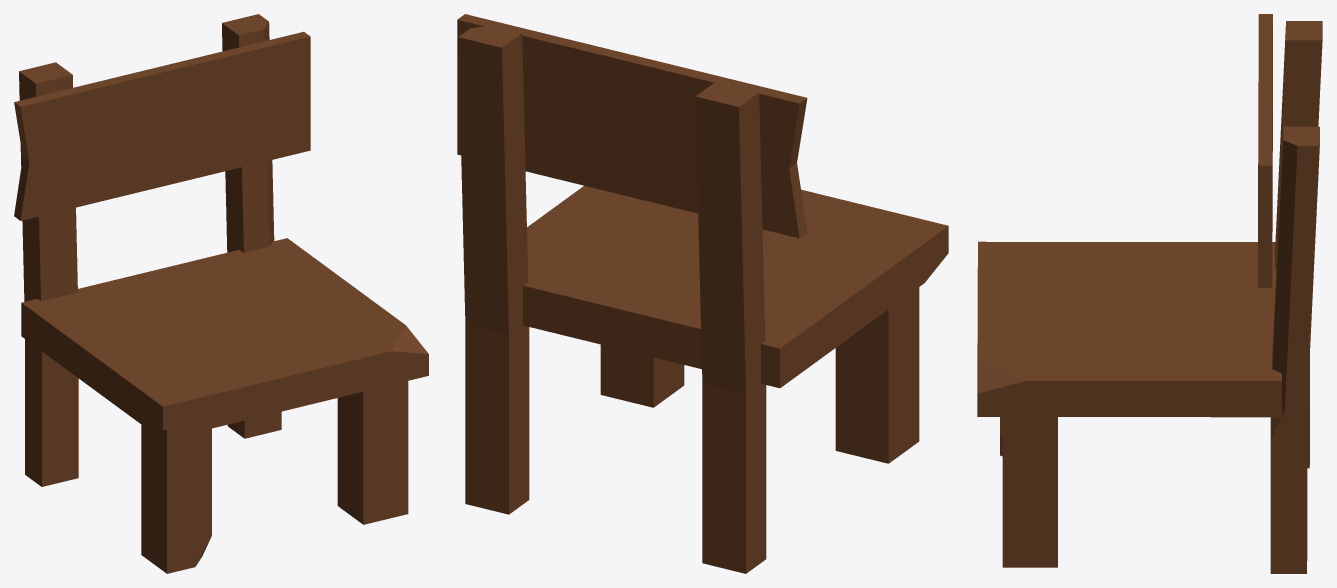
The model's file is Chair_1.fbx.
3 views of the same model, side by side, from view 1: azimuth 30°, elevation 25°; view 2: azimuth 150°, elevation 25°; view 3: azimuth 270°, elevation 25° (orthographic). The views are drawn at different scales.
Visible parts, largest first — view 1: Chair_1; view 2: Chair_1; view 3: Chair_1.
Boxes of the visible parts, x1,y1,x2,y2 form: Chair_1: (14,14,428,573); Chair_1: (457,14,948,573); Chair_1: (977,14,1322,573).
Size of the model in its own units: 62.21 by 81.86 by 59.86.
